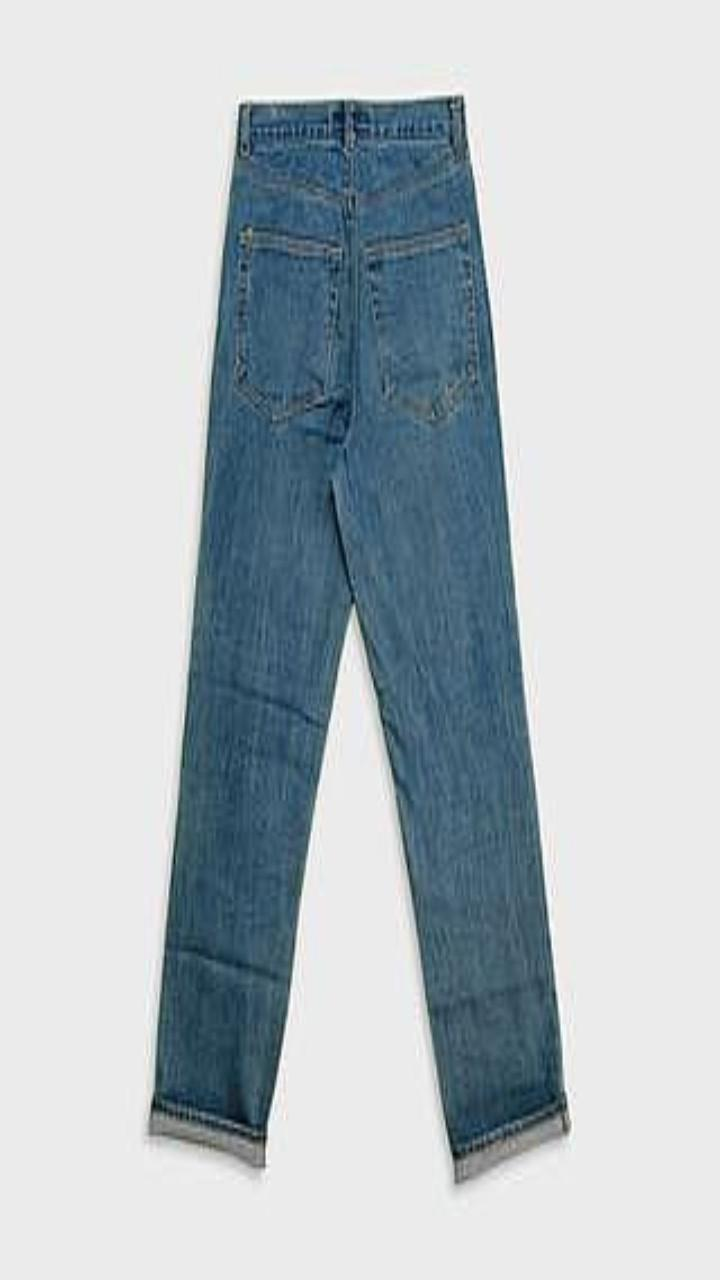Jeans: (151, 97, 568, 1179)
